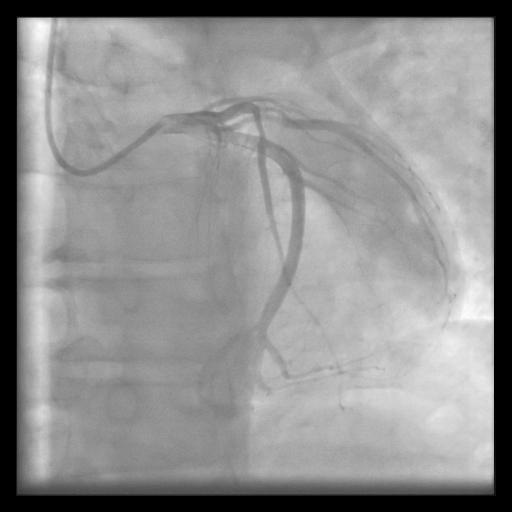Stenosis: (250, 110, 266, 146)
